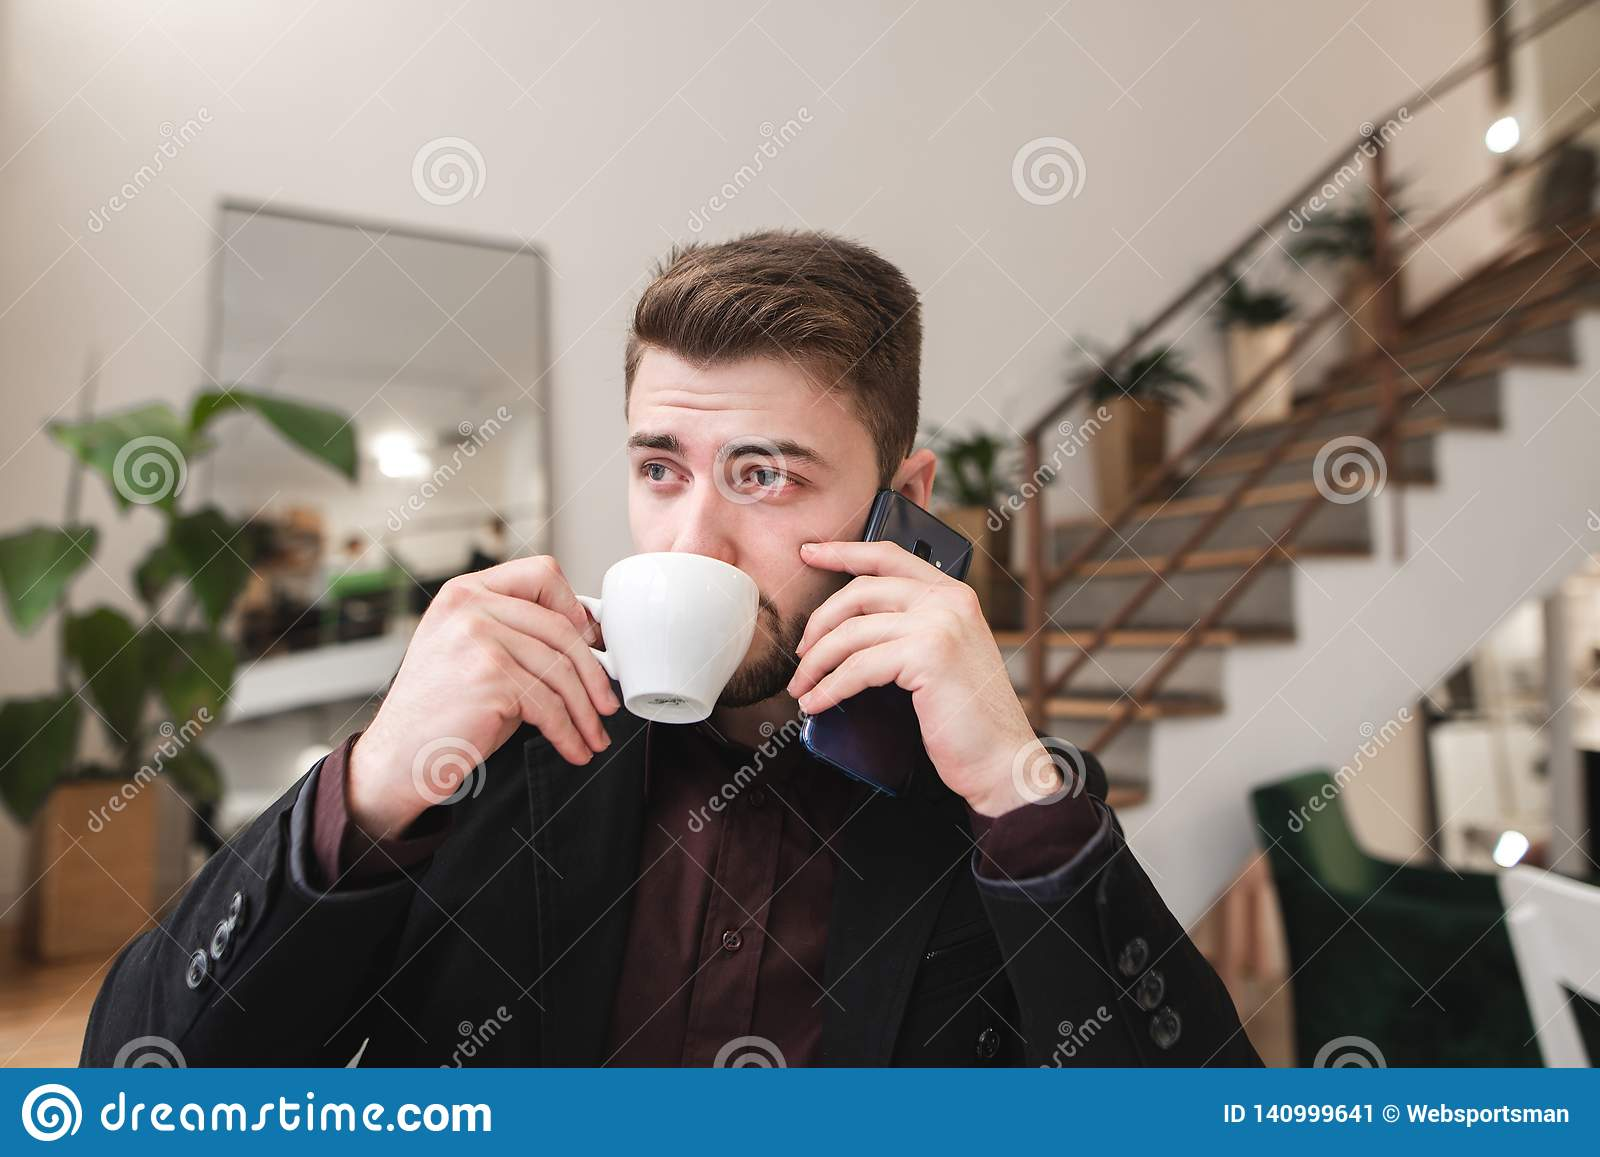phone: (793, 486, 980, 800)
talk: (621, 420, 1015, 815)
